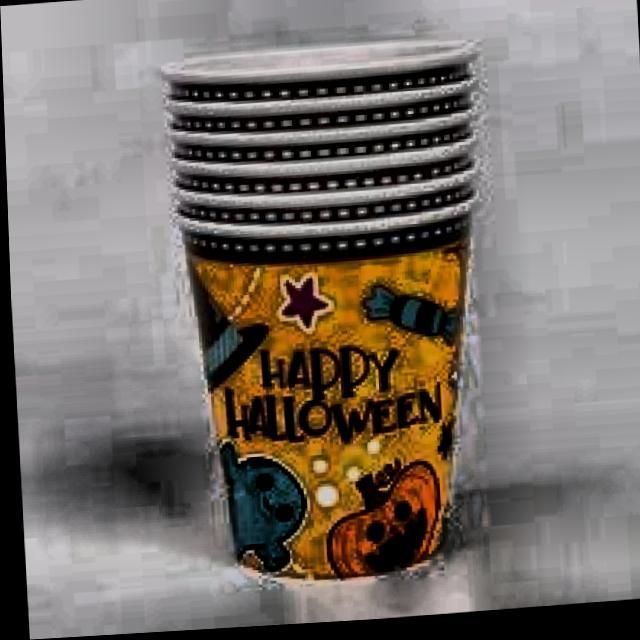Cup: (149, 25, 486, 606)
